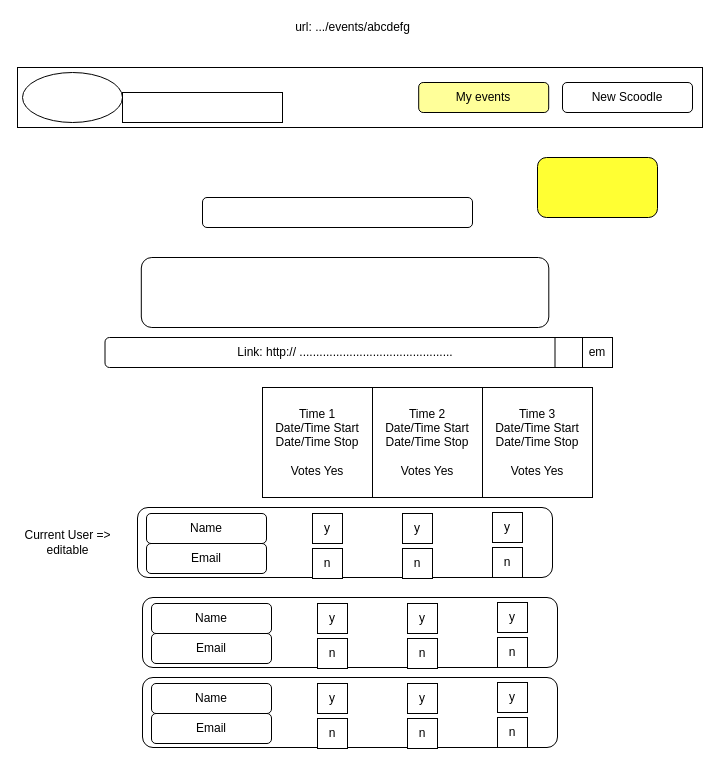
This 720x766 diagram has some shape labels left out. The shapes that lost their labels are listed below. From the top down, each one's centre as x and y in pixels, then its label:
At (72,97): "Logo".
At (202,107): "Name - email".
At (597,187): "edit event".
At (337,212): "Title".
At (344,292): "Description".
At (569,352): "CP".
